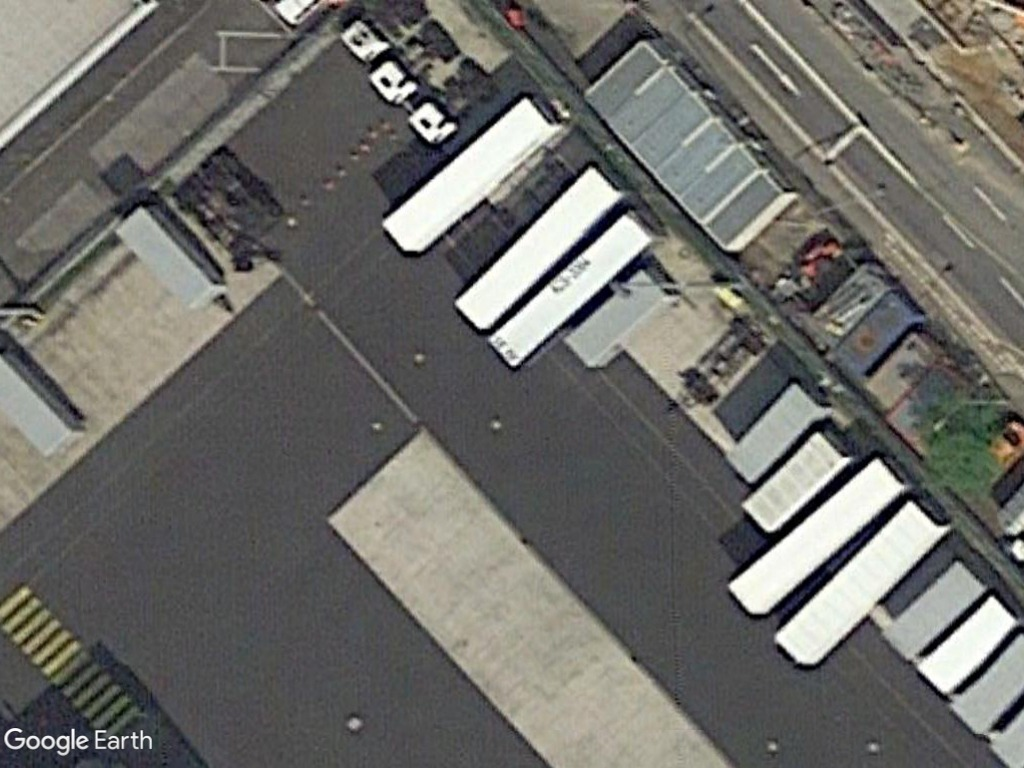longvehicle: (764, 494, 951, 672), (378, 89, 561, 263), (452, 159, 628, 333), (725, 456, 910, 621), (485, 211, 657, 380), (915, 591, 1023, 697)
